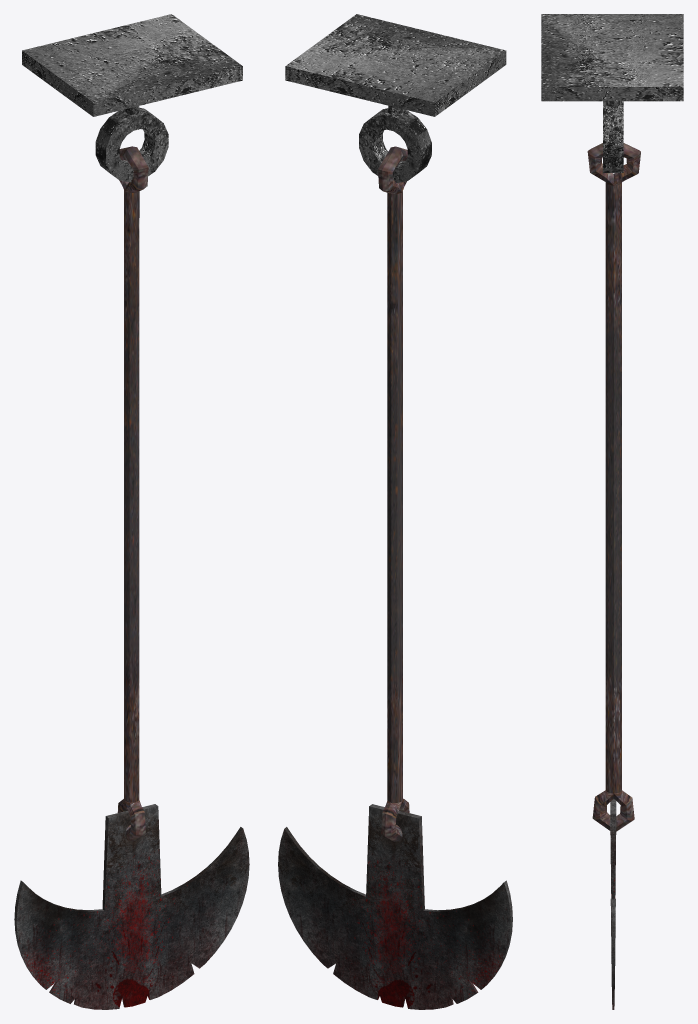
The model's file is PendulumBlade.fbx.
The picture shows the model from 3 angles, left to right: view 1: azimuth 30°, elevation 25°; view 2: azimuth 150°, elevation 25°; view 3: azimuth 270°, elevation 25°; orthographic projection.
Visible parts, largest first — view 1: PendulumBlade:Mesh; view 2: PendulumBlade:Mesh; view 3: PendulumBlade:Mesh.
Boxes of the visible parts, left/top/right/bottom form: PendulumBlade:Mesh: left=14, top=14, right=249, bottom=1009; PendulumBlade:Mesh: left=278, top=14, right=512, bottom=1009; PendulumBlade:Mesh: left=541, top=14, right=683, bottom=1009.
Bounding box in the file's own units: 0.6873 × 2.67 × 0.3643.
